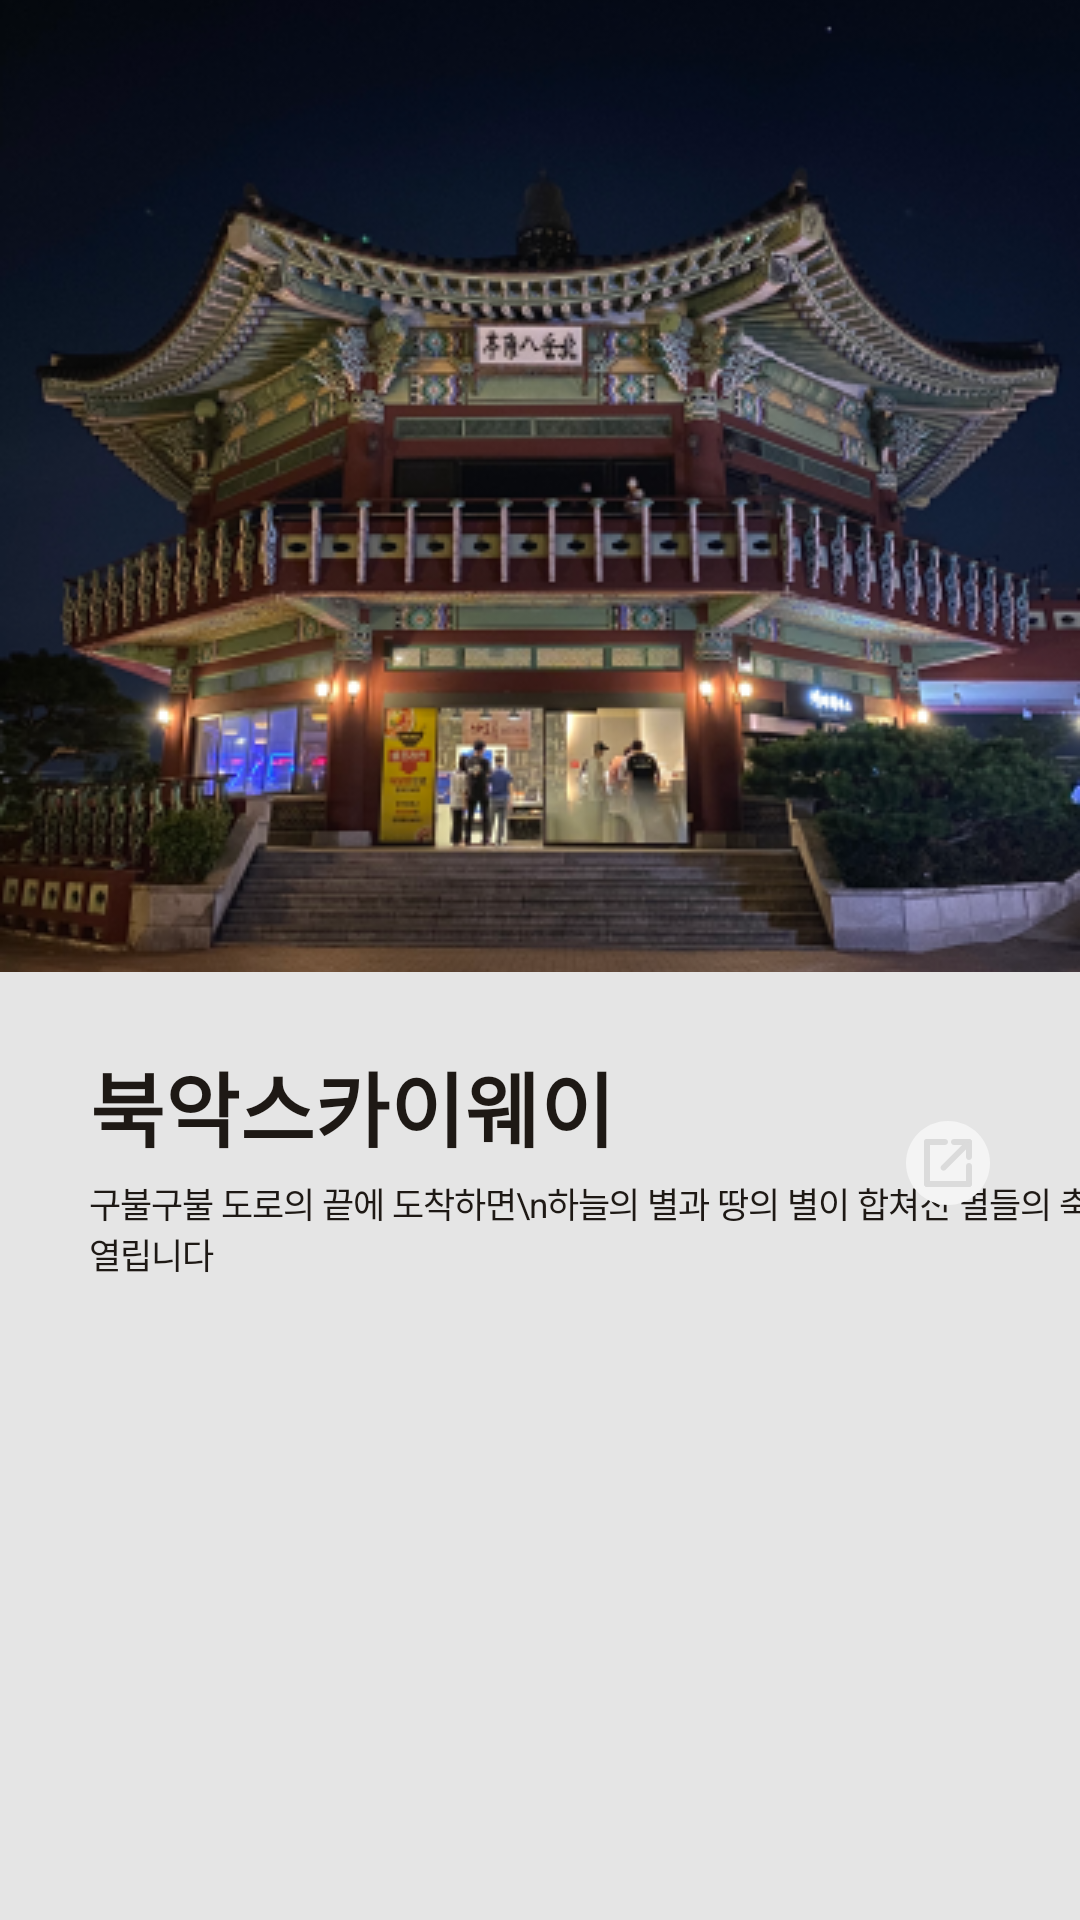

Icon click points for this 1080x1920 phone screenshot, format point (x, y):
share: point (948, 1163)
